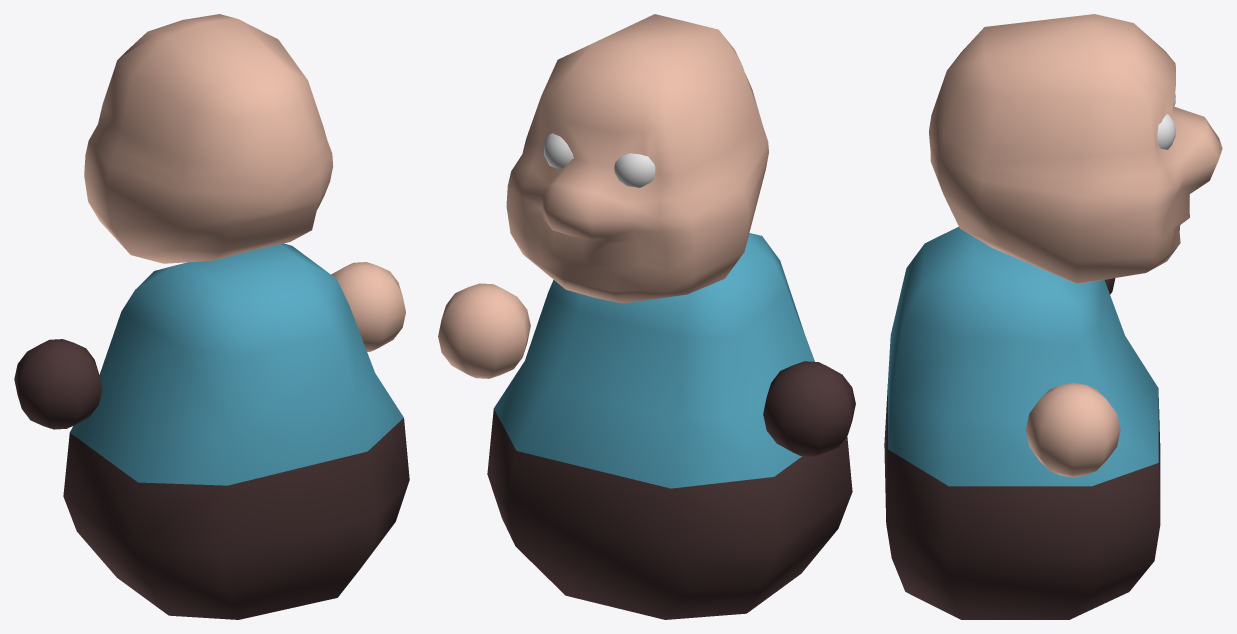
The model's file is Karakter_Smooth.fbx.
The picture shows the model from 3 angles, left to right: view 1: azimuth 30°, elevation 25°; view 2: azimuth 150°, elevation 25°; view 3: azimuth 270°, elevation 25°; orthographic projection. The views are drawn at different scales.
Visible parts, largest first — view 1: Body, Head, HandR, HandL; view 2: Body, Head, HandL, HandR, Leye.001, Leye; view 3: Body, Head, HandL, Leye.
Part boxes in pixels (<box>): Body: <box>63,243,409,619</box>; Head: <box>84,14,333,263</box>; HandR: <box>14,339,102,429</box>; HandL: <box>331,262,405,351</box>; Body: <box>487,233,852,619</box>; Head: <box>506,14,768,303</box>; HandL: <box>438,283,530,378</box>; HandR: <box>763,361,855,456</box>; Leye.001: <box>614,153,655,187</box>; Leye: <box>543,133,573,168</box>; Body: <box>884,226,1160,619</box>; Head: <box>929,14,1222,284</box>; HandL: <box>1025,382,1120,477</box>; Leye: <box>1157,114,1175,149</box>.
Size of the model in its own units: 311 by 422 by 227.
